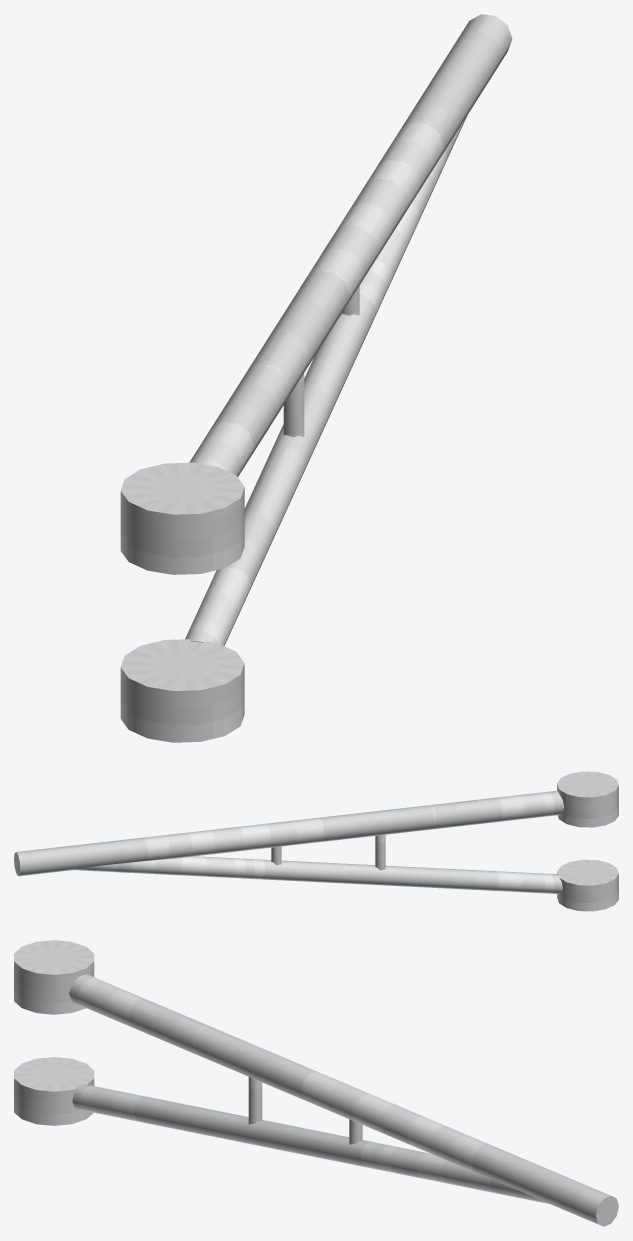
Rendered from trusssignalarm_diagonal5_inv.obj.
The picture shows the model from 3 angles, top to bottom: view 1: azimuth 30°, elevation 25°; view 2: azimuth 150°, elevation 25°; view 3: azimuth 270°, elevation 25°; orthographic projection. The views are drawn at different scales.
Parts seen in each view (by area): view 1: trusssignalarm_diagonal5_inv; view 2: trusssignalarm_diagonal5_inv; view 3: trusssignalarm_diagonal5_inv.
Boxes of the visible parts, x1=… form: trusssignalarm_diagonal5_inv: x1=120, y1=14, x2=512, y2=742; trusssignalarm_diagonal5_inv: x1=14, y1=771, x2=618, y2=911; trusssignalarm_diagonal5_inv: x1=14, y1=940, x2=618, y2=1226.
Bounding box in the file's own units: 1 × 0.275 × 0.9983.
